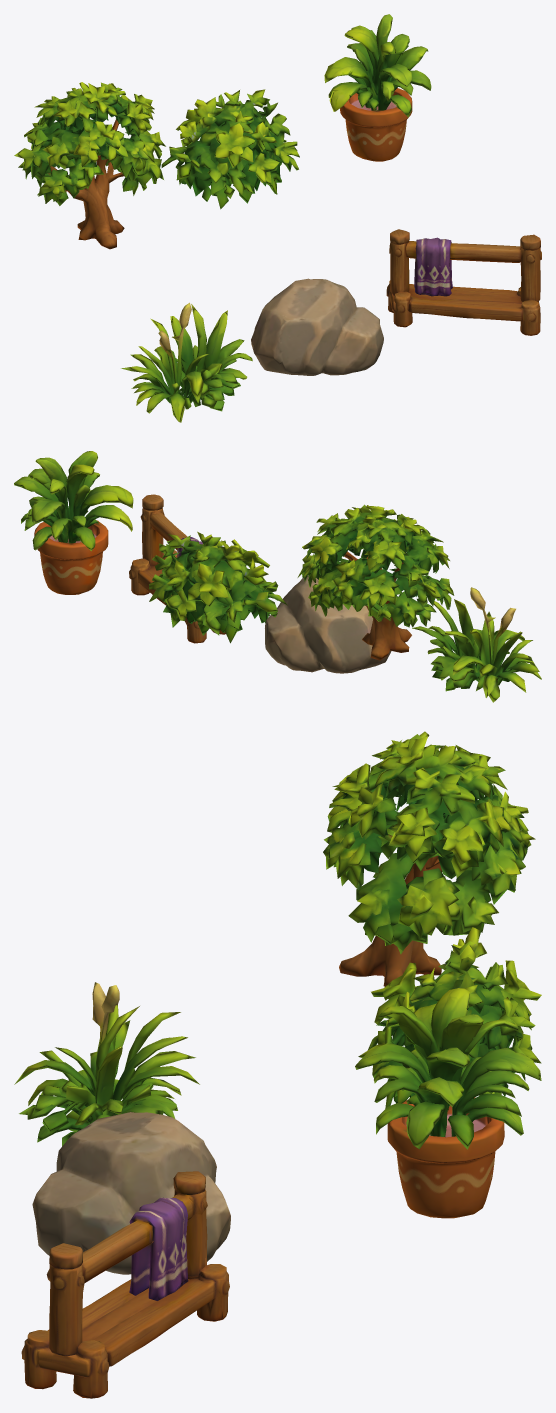
File: tripo_convert_859d73f7-ea27-4067-9178-a307d7137e5d.fbx
3 views of the same model, one above another, from view 1: azimuth 30°, elevation 25°; view 2: azimuth 150°, elevation 25°; view 3: azimuth 270°, elevation 25° (orthographic). The views are drawn at different scales.
Visible parts, largest first — view 1: tripo_node_859d73f7; view 2: tripo_node_859d73f7; view 3: tripo_node_859d73f7.
Part boxes in pixels (bbox=[...]): tripo_node_859d73f7: bbox=[14, 14, 541, 422]; tripo_node_859d73f7: bbox=[14, 451, 541, 702]; tripo_node_859d73f7: bbox=[14, 731, 541, 1398].
Bounding box in the file's own units: 0.9855 × 0.5642 × 0.672.
1 material, 1 textured.
